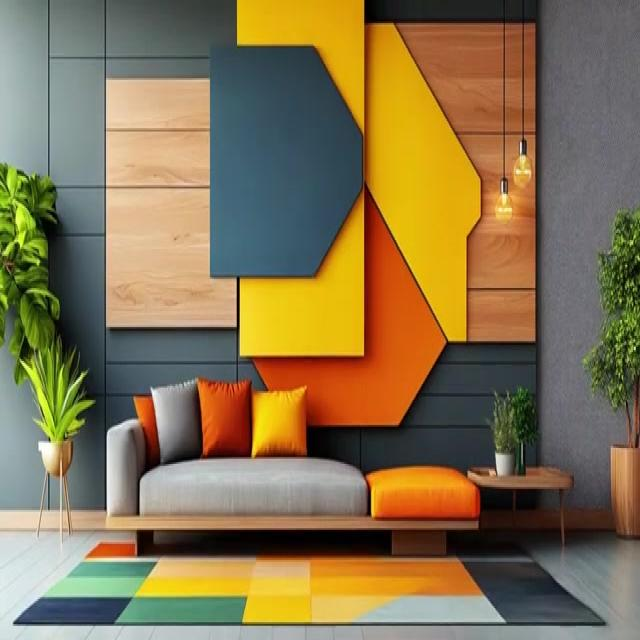obstacle: (105, 377, 481, 555), (466, 464, 574, 546)
